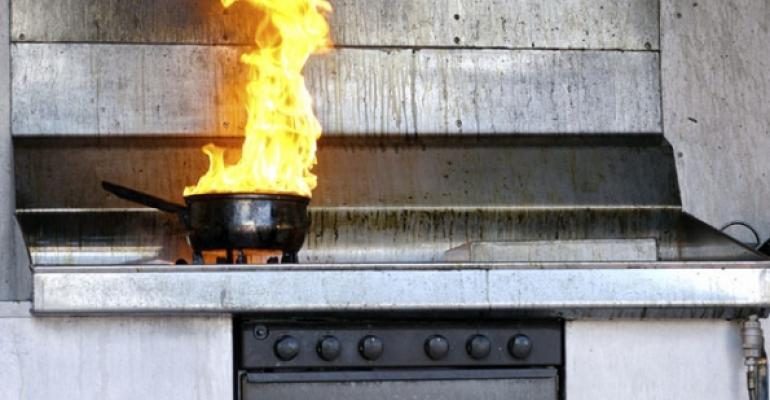fire: (210, 1, 330, 187)
